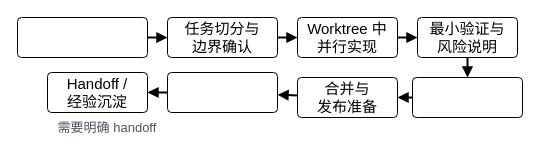
Some shapes in this 540 by 160 pixel diagram are drawn without their labels. Here are the shapes that lost their labels. From the top down, the centre of each, then its label:
point (82, 37): Ticket / 需求入口
point (222, 92): 运行观察 / 值班接力
point (467, 97): Review / 审批
